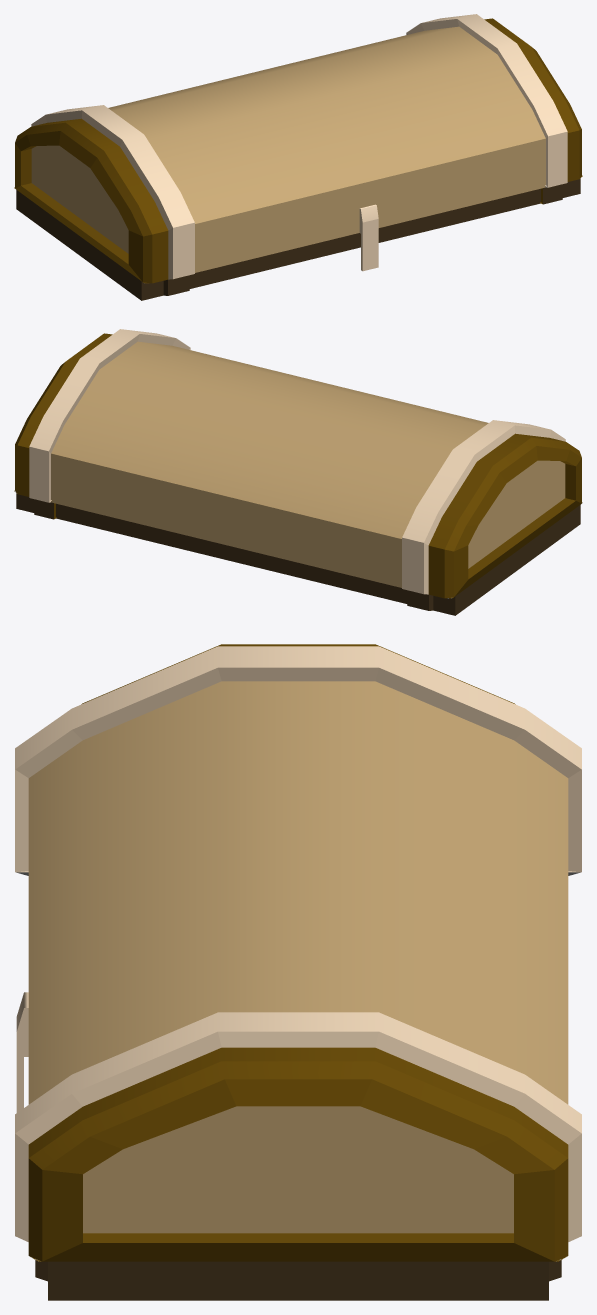
The model's file is chest-top.fbx.
The picture shows the model from 3 angles, top to bottom: view 1: azimuth 30°, elevation 25°; view 2: azimuth 150°, elevation 25°; view 3: azimuth 270°, elevation 25°; orthographic projection. The views are drawn at different scales.
Parts seen in each view (by area): view 1: Chest_Top; view 2: Chest_Top; view 3: Chest_Top.
Boxes of the visible parts, box(x1,y1,x2,y2) form: Chest_Top: box(14, 14, 582, 300); Chest_Top: box(14, 329, 582, 615); Chest_Top: box(15, 644, 581, 1300).
Bounding box in the file's own units: 1 × 0.3013 × 0.5484.
